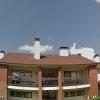Chimney: (29, 31, 45, 70)
